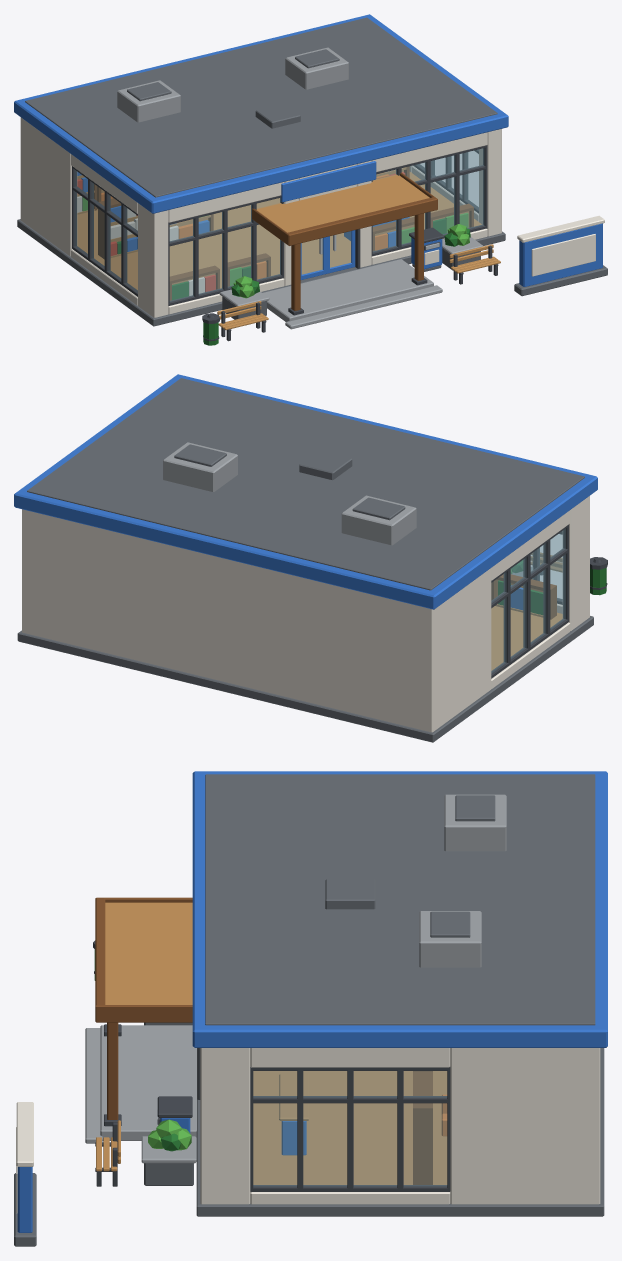
Rendered from modern-public-library.glb.
The picture shows the model from 3 angles, top to bottom: view 1: azimuth 30°, elevation 25°; view 2: azimuth 150°, elevation 25°; view 3: azimuth 270°, elevation 25°; orthographic projection. The views are drawn at different scales.
Visible parts, largest first — view 1: Library_Building, Library_Glass, Library_Canopy, Library_Interior, SignWall, Planter_A, Planter_B, Bench_B, Bench_A, BookReturn, Door_R_Glass, Door_L_Glass (+2 smaller); view 2: Library_Building, Library_Glass, Library_Interior, Bin; view 3: Library_Building, Library_Glass, Library_Canopy, Library_Interior, Planter_B, SignWall, Bench_B, BookReturn.
Boxes of the visible parts, x1,y1,x2,y2 form: Library_Building: [14, 14, 508, 329]; Library_Glass: [75, 148, 483, 301]; Library_Canopy: [252, 172, 437, 315]; Library_Interior: [77, 166, 473, 300]; SignWall: [514, 215, 607, 296]; Planter_A: [219, 276, 269, 319]; Planter_B: [442, 224, 483, 270]; Bench_B: [449, 244, 500, 284]; Bench_A: [217, 301, 268, 341]; BookReturn: [409, 227, 444, 271]; Door_R_Glass: [330, 231, 350, 267]; Door_L_Glass: [302, 239, 322, 274]; Library_Building: [14, 374, 597, 742]; Library_Glass: [491, 529, 565, 672]; Library_Interior: [491, 574, 556, 619]; Bin: [590, 557, 607, 595]; Library_Building: [85, 771, 607, 1216]; Library_Glass: [253, 1071, 446, 1185]; Library_Canopy: [95, 897, 192, 1126]; Library_Interior: [279, 1071, 447, 1184]; Planter_B: [141, 1119, 196, 1185]; SignWall: [14, 1102, 36, 1246]; Bench_B: [95, 1120, 120, 1186]; BookReturn: [157, 1096, 192, 1133].
Size of the model in its own units: 54.6 by 19.3 by 47.5.
